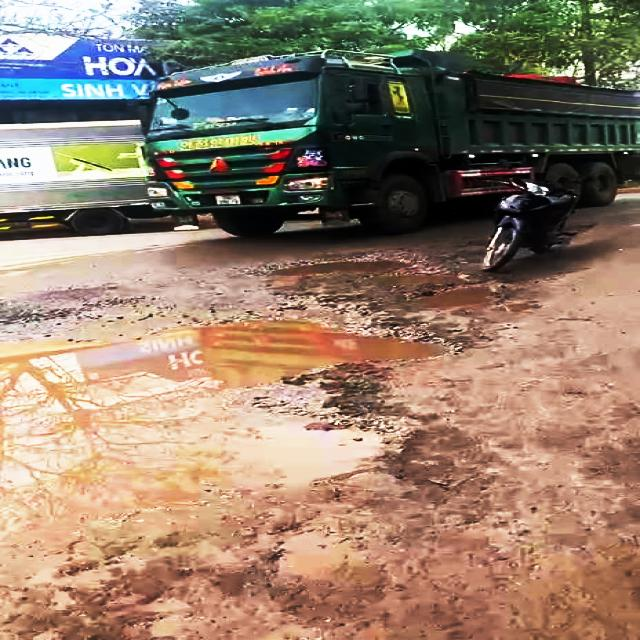pothole: (0, 308, 490, 432), (255, 252, 548, 322)
